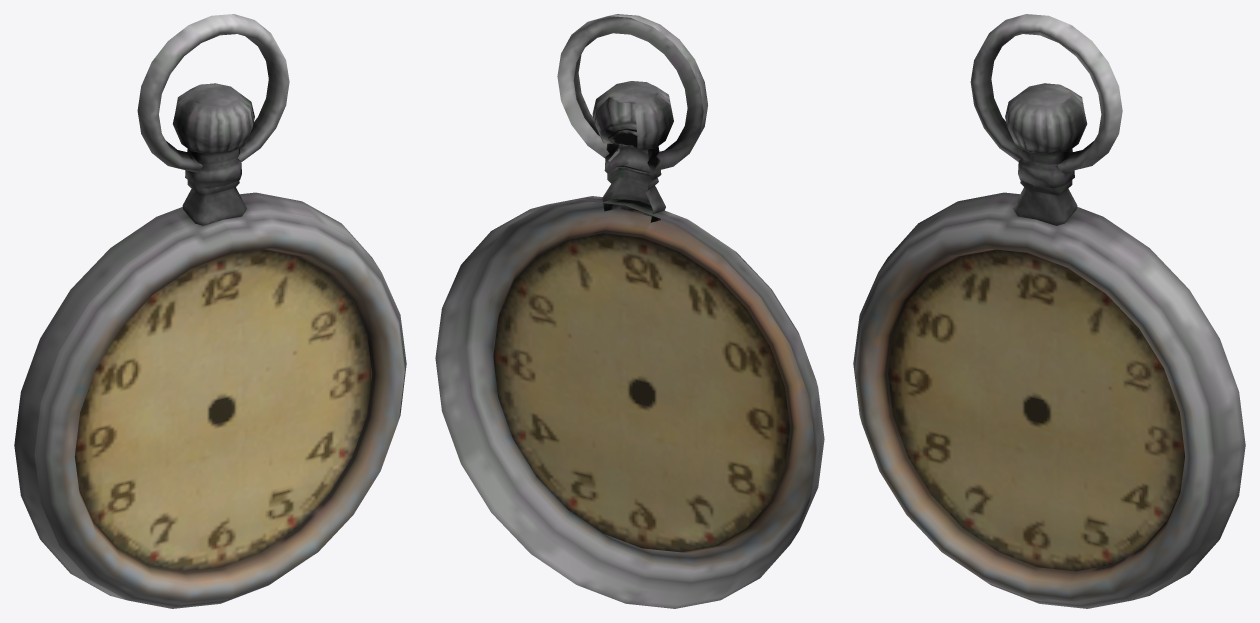
The model's file is Old Pocket Watch.dae.
The picture shows the model from 3 angles, left to right: view 1: azimuth 30°, elevation 25°; view 2: azimuth 150°, elevation 25°; view 3: azimuth 330°, elevation 25°; orthographic projection.
Visible parts, largest first — view 1: Mesh_0.039; view 2: Mesh_0.039; view 3: Mesh_0.039.
Boxes of the visible parts, <box> form: Mesh_0.039: <box>14,14,406,608</box>; Mesh_0.039: <box>435,14,824,608</box>; Mesh_0.039: <box>853,14,1245,608</box>.
Bounding box in the file's own units: 3.11 × 0.5452 × 4.54.
Materials: 1 (1 with a texture image).
